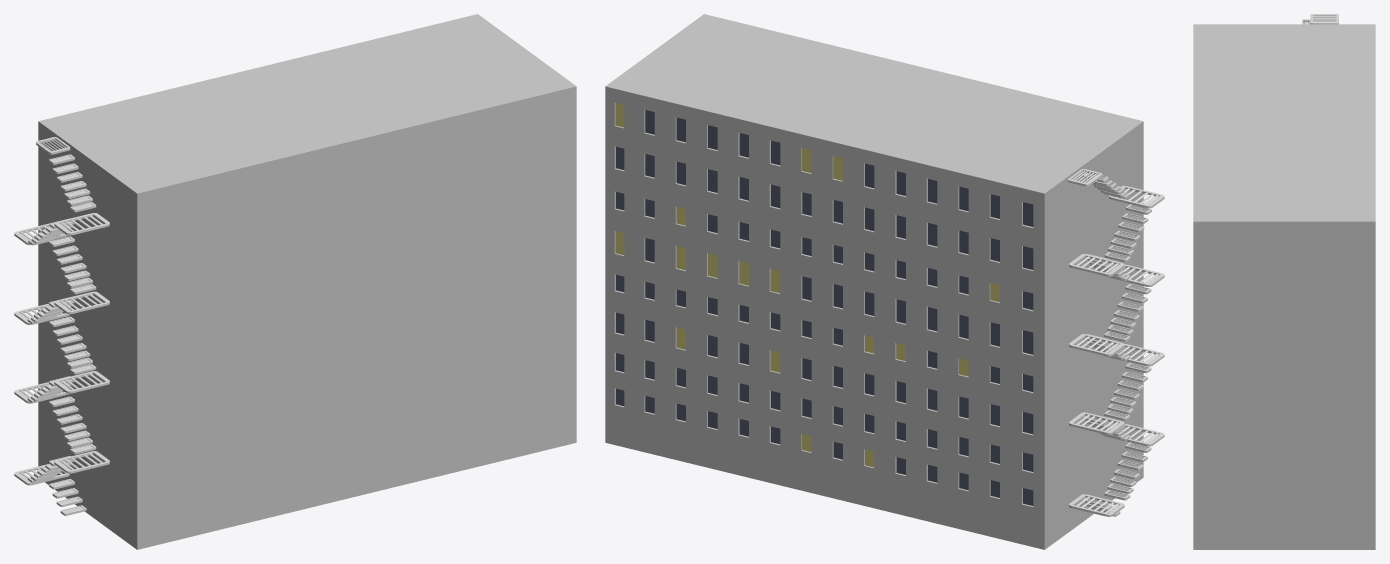
File: build_c.fbx
3 renders of one model, left to right at view 1: azimuth 30°, elevation 25°; view 2: azimuth 150°, elevation 25°; view 3: azimuth 270°, elevation 25°, orthographic. The views are drawn at different scales.
Parts seen in each view (by area): view 1: 立方体, 円柱.048, 円柱.056, 円柱.006, 円柱.031; view 2: 立方体, 立方体.001, 円柱.008, 円柱.032, 円柱.033, 円柱.064; view 3: 立方体, 円柱.009.
Boxes of the visible parts, left/top/right/bottom form: 立方体: left=38, top=14, right=576, bottom=549; 円柱.048: left=54, top=371, right=109, bottom=393; 円柱.056: left=54, top=451, right=109, bottom=473; 円柱.006: left=54, top=213, right=109, bottom=235; 円柱.031: left=54, top=291, right=109, bottom=314; 立方体: left=605, top=14, right=1143, bottom=549; 立方体.001: left=616, top=110, right=1033, bottom=505; 円柱.008: left=1069, top=254, right=1124, bottom=276; 円柱.032: left=1069, top=334, right=1124, bottom=356; 円柱.033: left=1069, top=412, right=1124, bottom=434; 円柱.064: left=1069, top=494, right=1124, bottom=516; 立方体: left=1193, top=24, right=1375, bottom=549; 円柱.009: left=1310, top=14, right=1338, bottom=24.
Size of the model in its own units: 4610 by 3233 by 1627.
